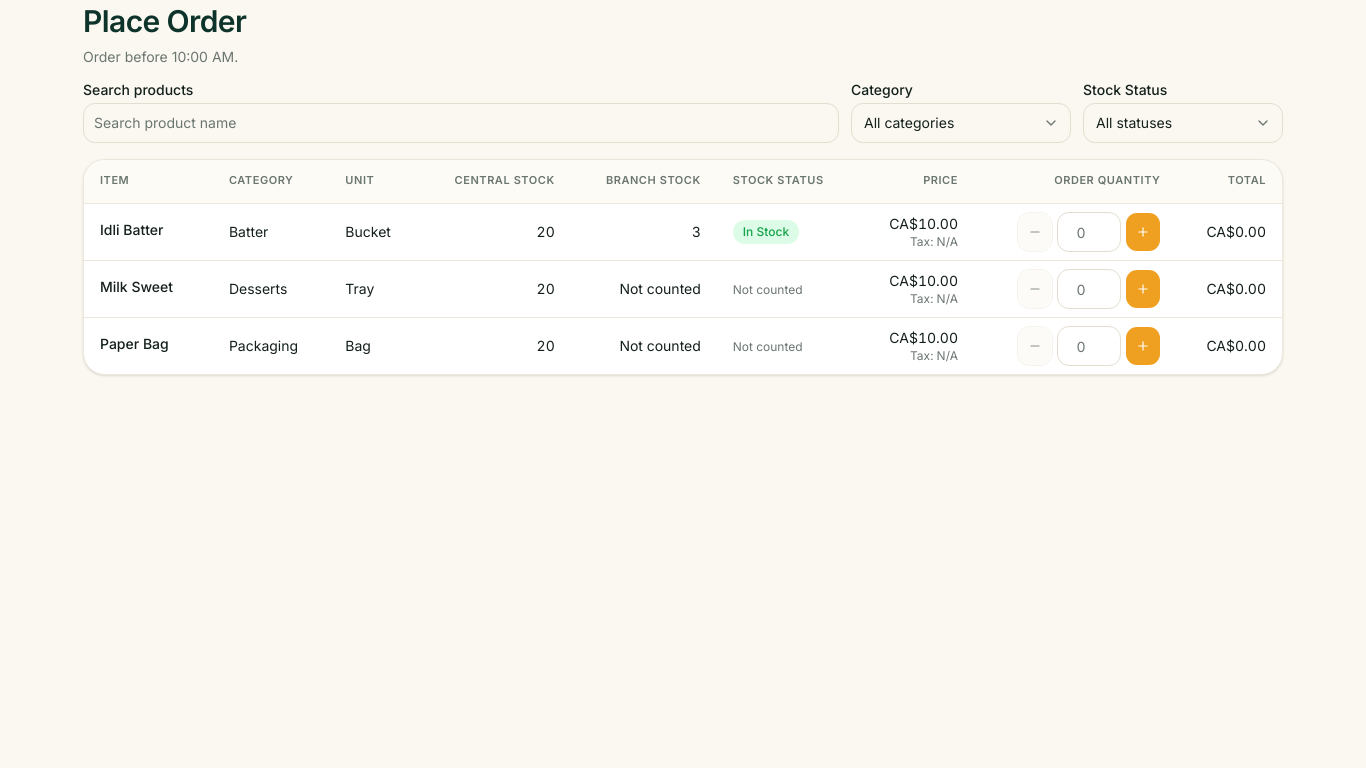
Test: filters branch stock by threshold status while preserving the selected order
Click the button named "Increase Idli Batter".
click(1142, 232)  # box [1124,212,1160,252]
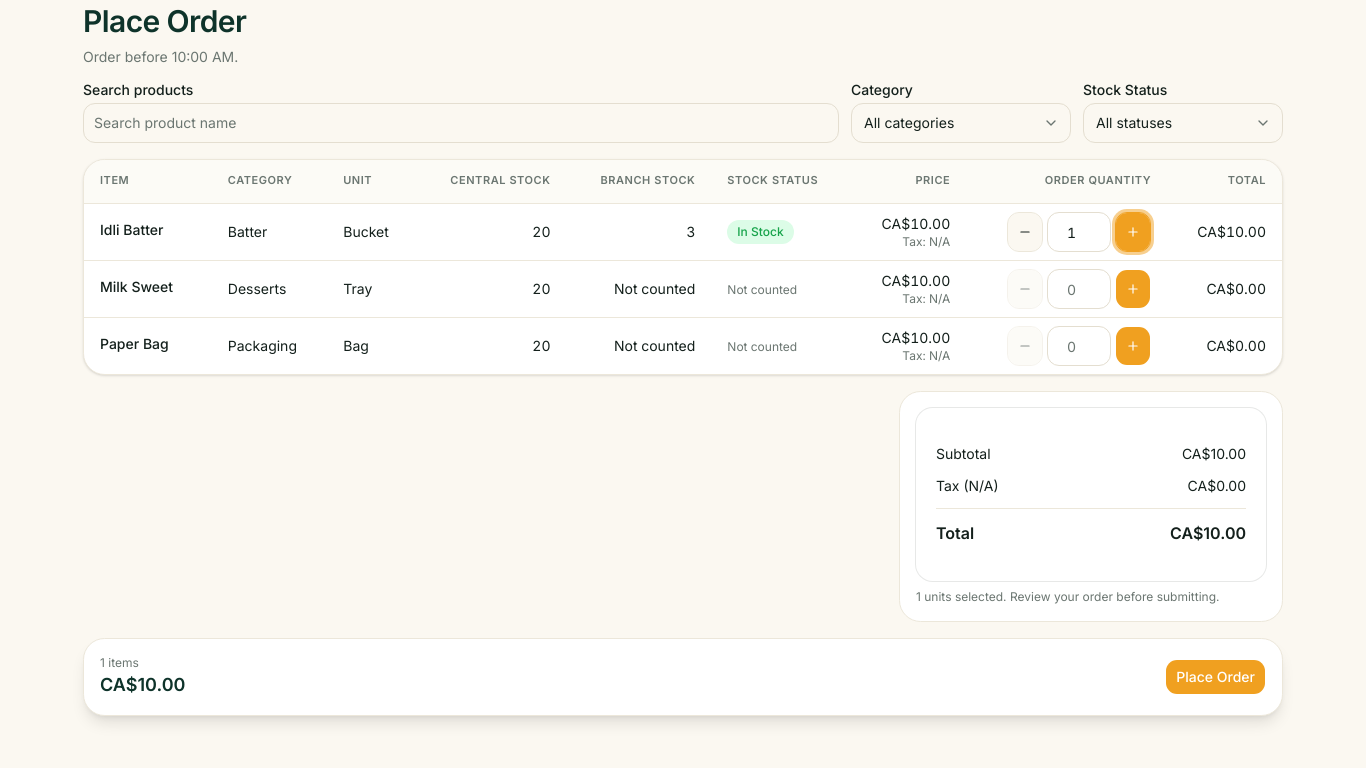
Select "Out of stock" in the dropdown labelled "Stock Status" at {"x": 1183, "y": 122}, box [1083,102,1283,142]
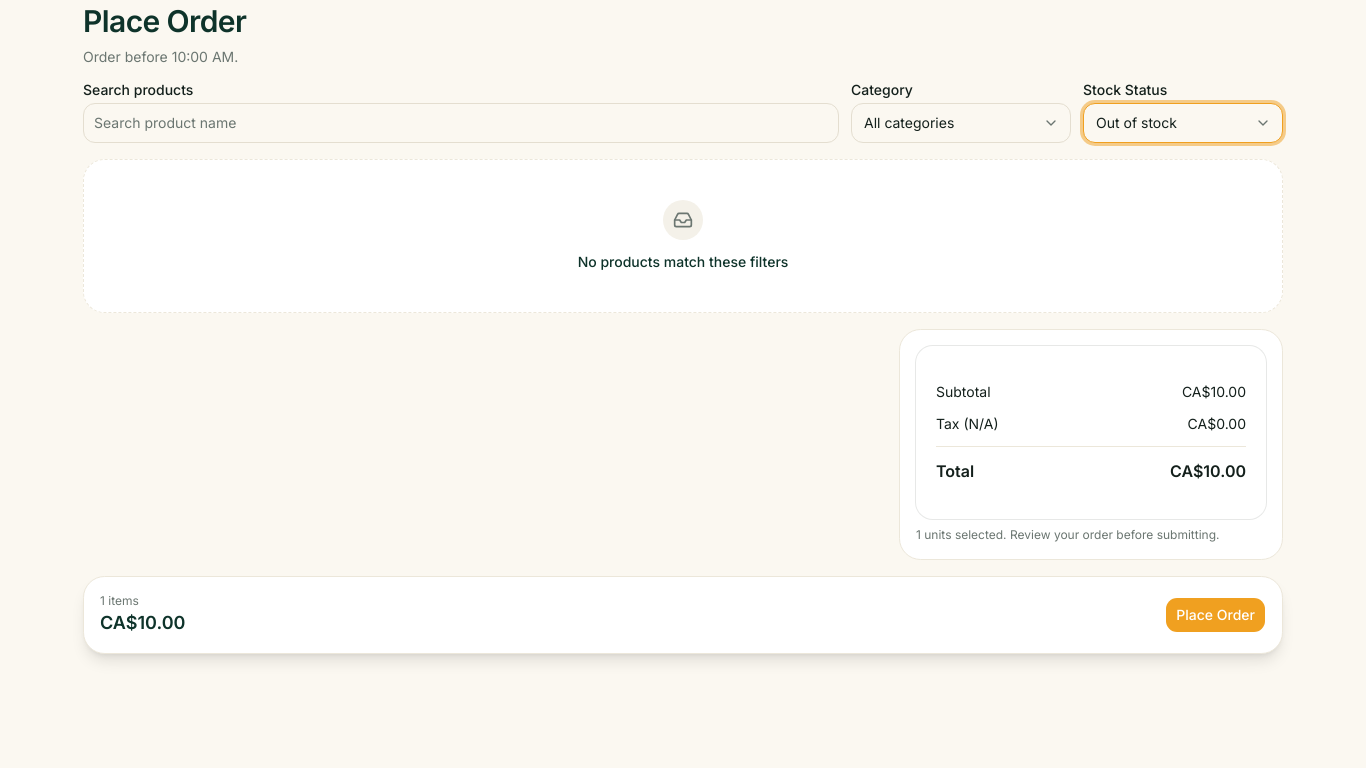
Expected: the text "No products match these filters" is shown, [578,252,788,270]
Click the button "Place Order".
click(1216, 614)  # box [1165,596,1266,632]
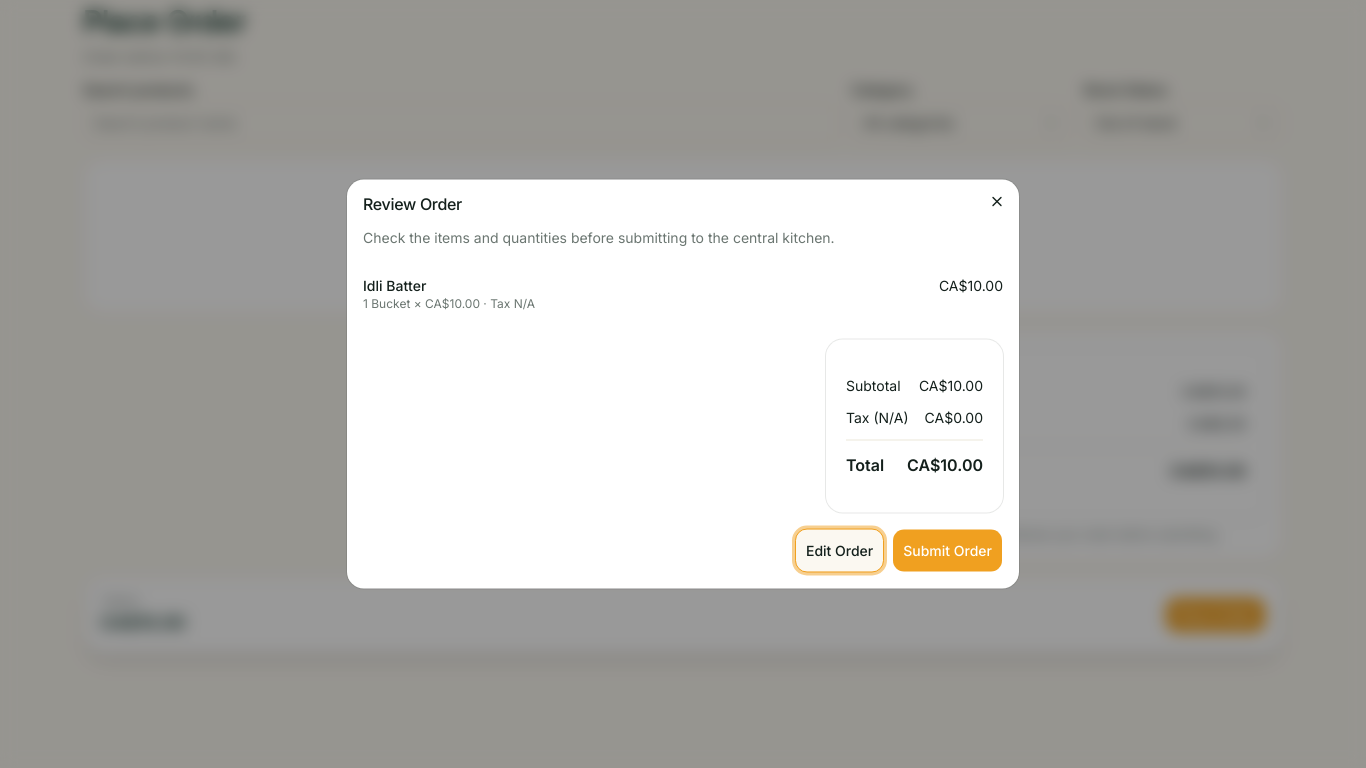
Expected: the text "Idli Batter" is shown, [363,276,426,294]
Click the button "Edit Order".
click(840, 550)  # box [795,528,884,572]
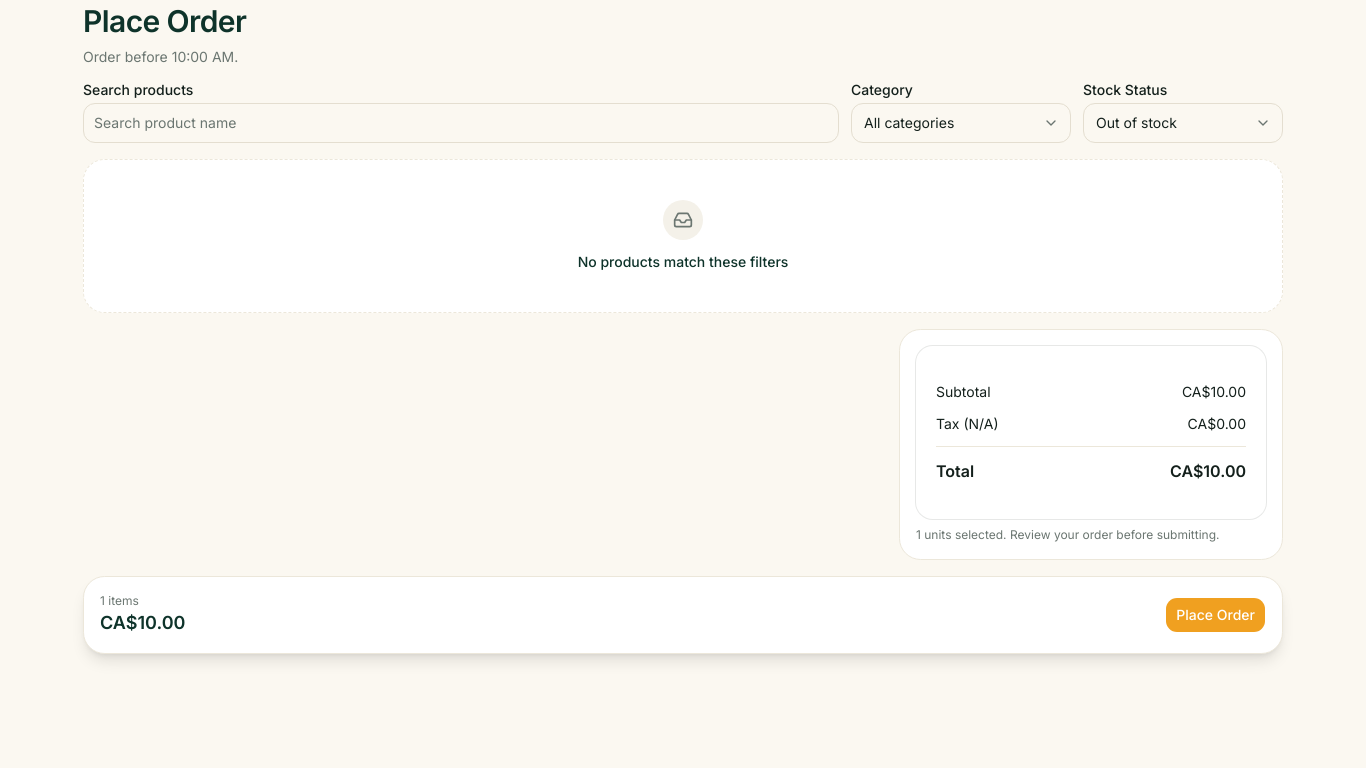
Select "In stock" in the dropdown labelled "Stock Status" at {"x": 1183, "y": 122}, box [1083,102,1283,142]
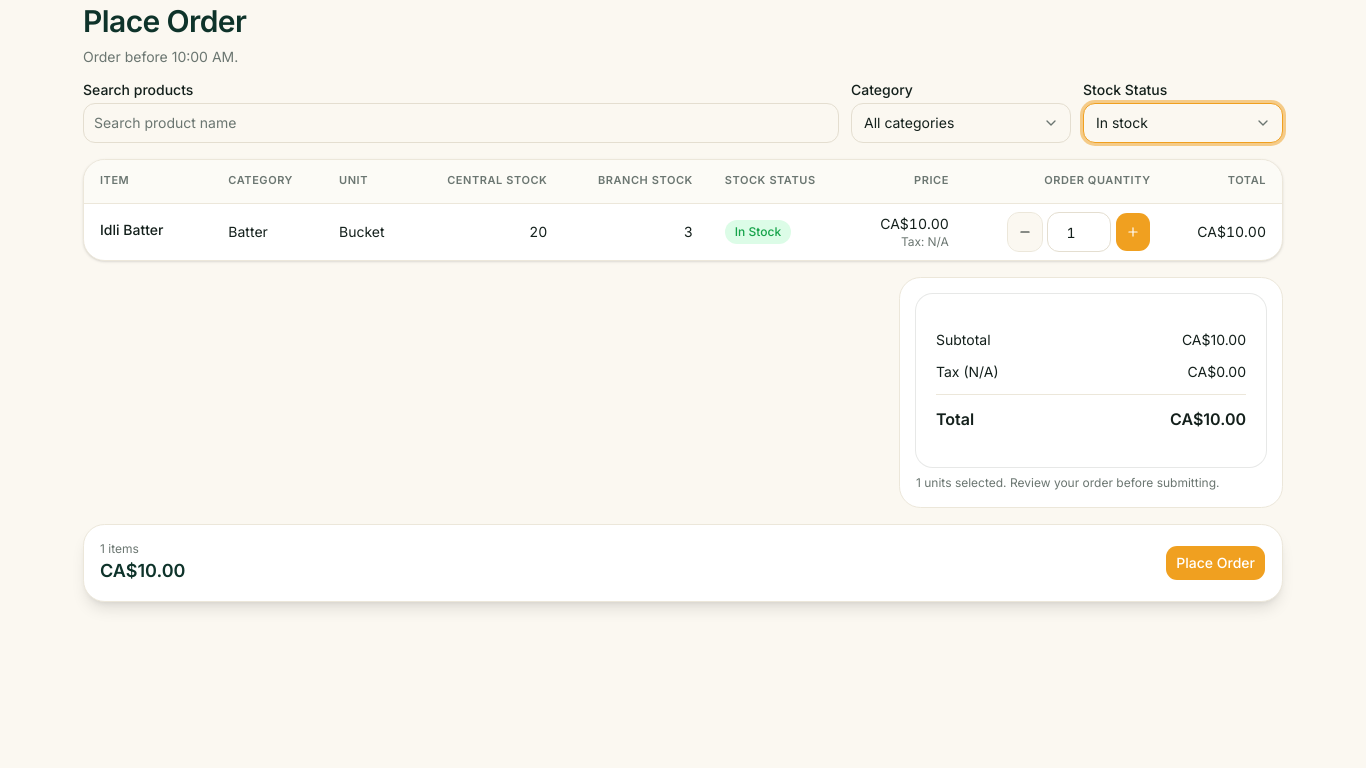
Expected: the column heading "Stock Status" is shown, [709,160,850,204]
